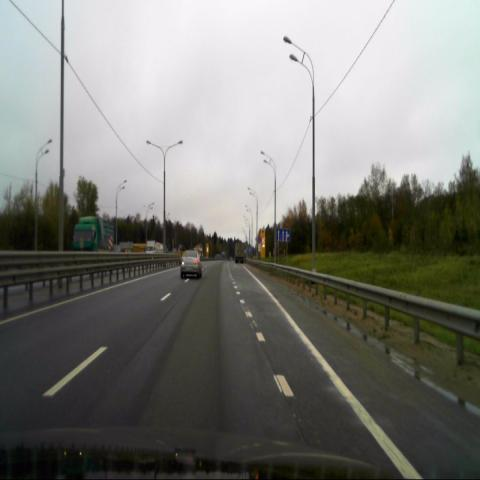5_15_1: (277, 229, 289, 242)
